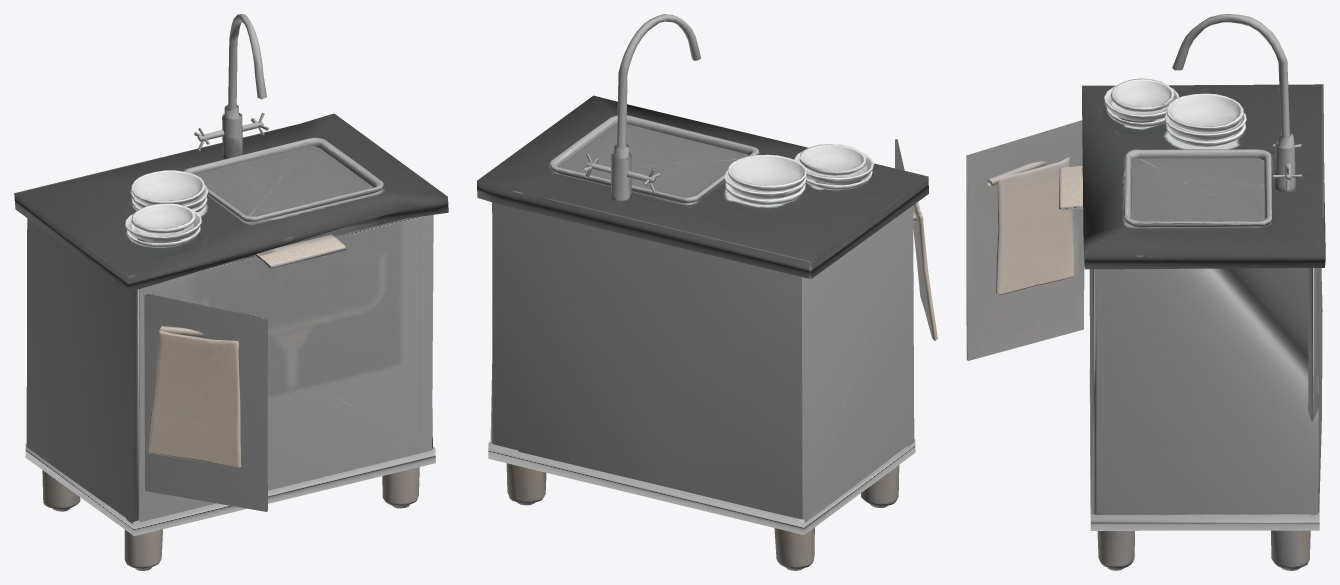
Rendered from prop_kitchen_sink.glb.
The picture shows the model from 3 angles, left to right: view 1: azimuth 30°, elevation 25°; view 2: azimuth 150°, elevation 25°; view 3: azimuth 270°, elevation 25°; orthographic projection. The views are drawn at different scales.
Size of the model in its own units: 0.7196 by 1 by 0.6518.
1 material, 1 textured.
